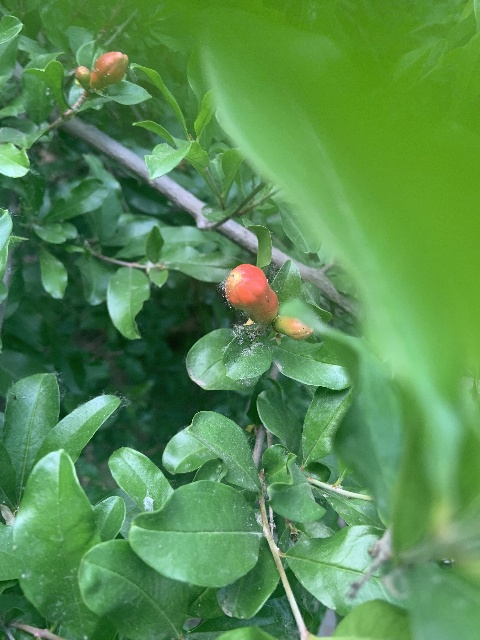bud: (225, 263, 277, 323), (92, 51, 128, 87), (272, 316, 314, 340), (75, 65, 90, 89)
